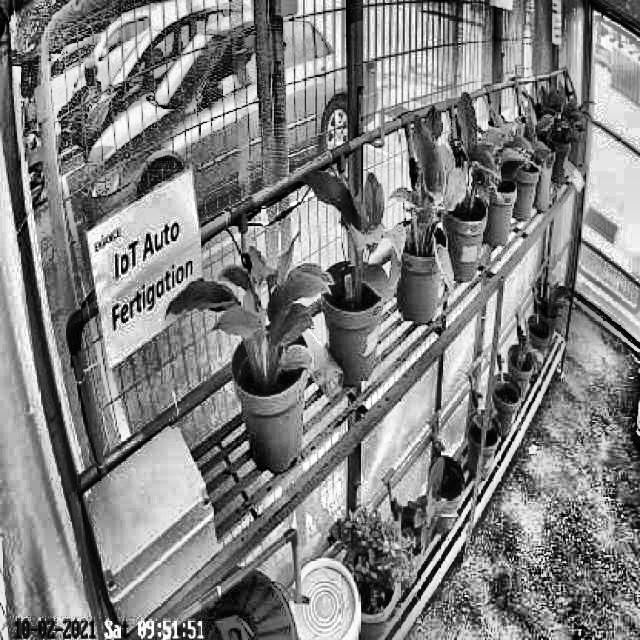plants: (168, 228, 334, 384), (298, 160, 406, 312), (398, 98, 466, 296), (440, 94, 498, 231)
